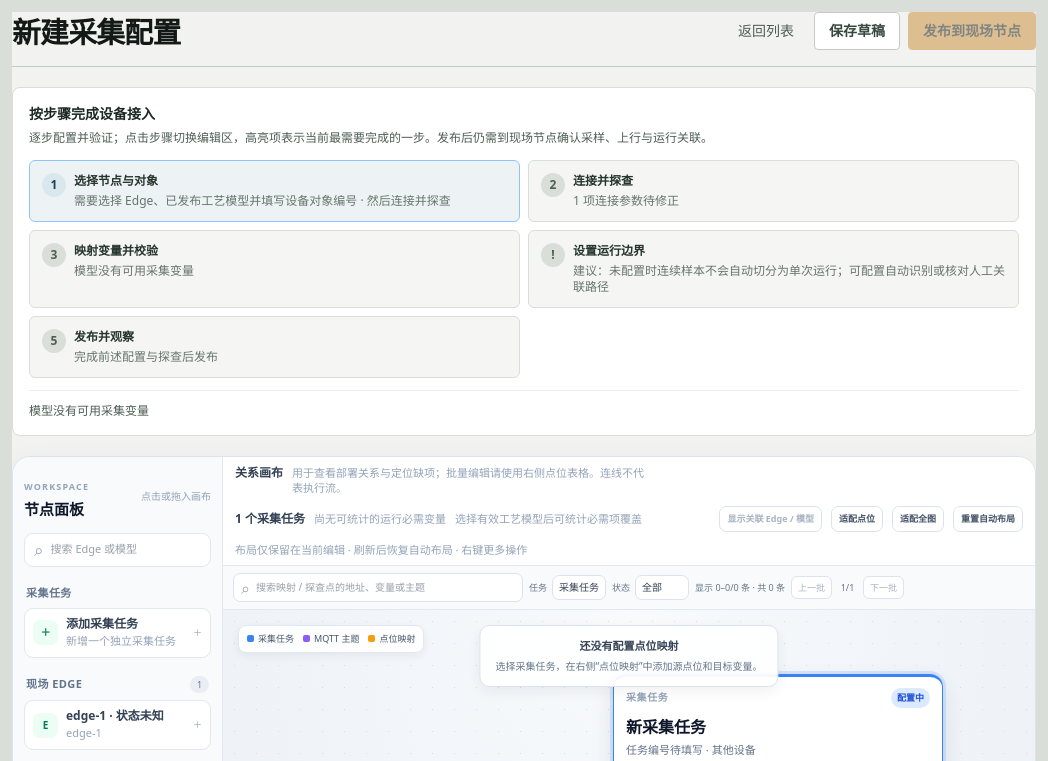
Test case: 采集拓扑画布编辑 › 新建设备可从关系画布扩展为多任务工作区
Click the button "＋ 添加采集任务 新增一个独立采集任务 ＋": (118,633) [24, 608, 211, 658]
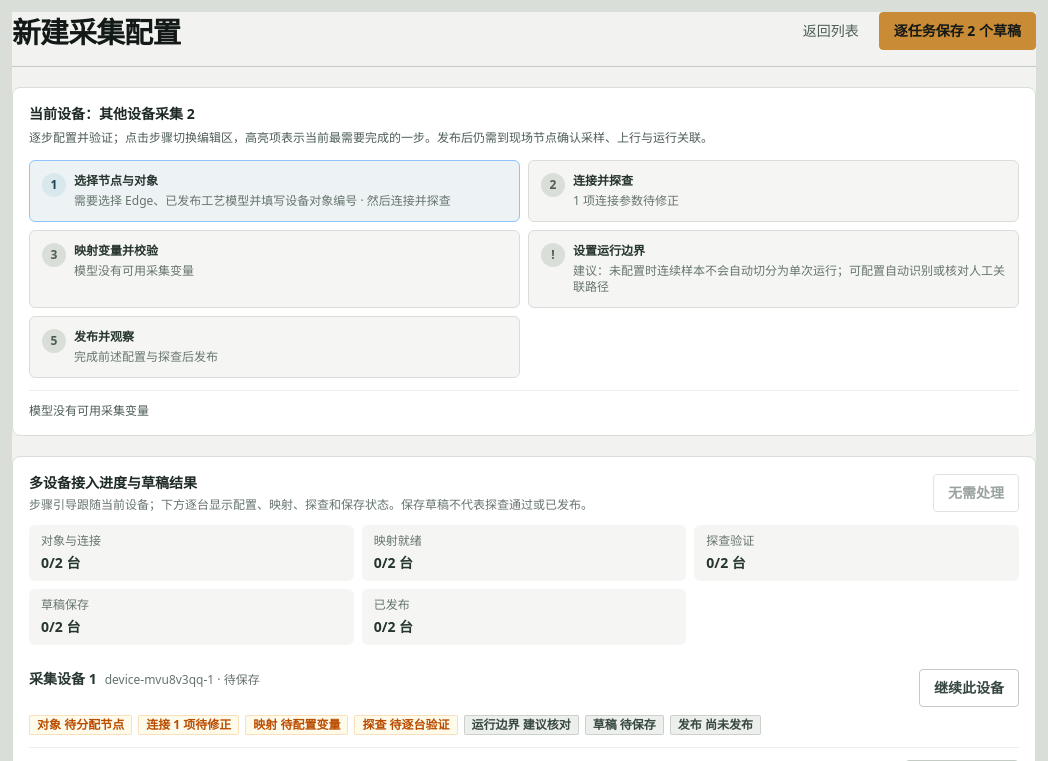
Expected: the button "逐任务保存 2 个草稿" is shown, [879, 12, 1036, 50]
